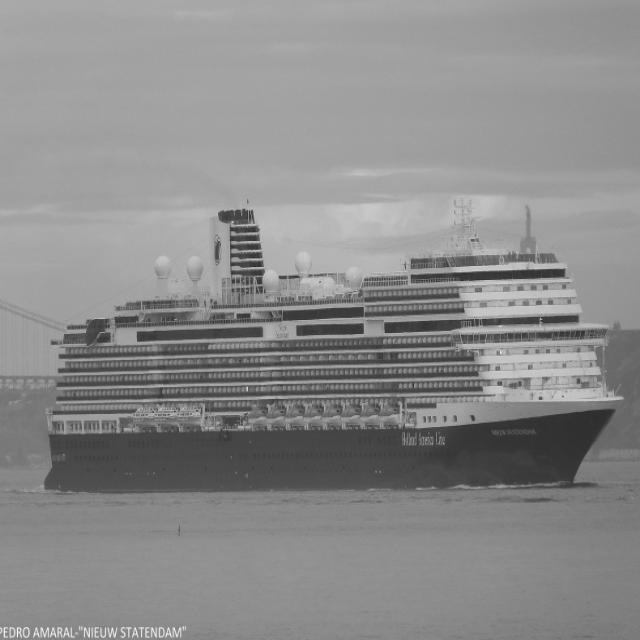cruises: (41, 189, 627, 499)
